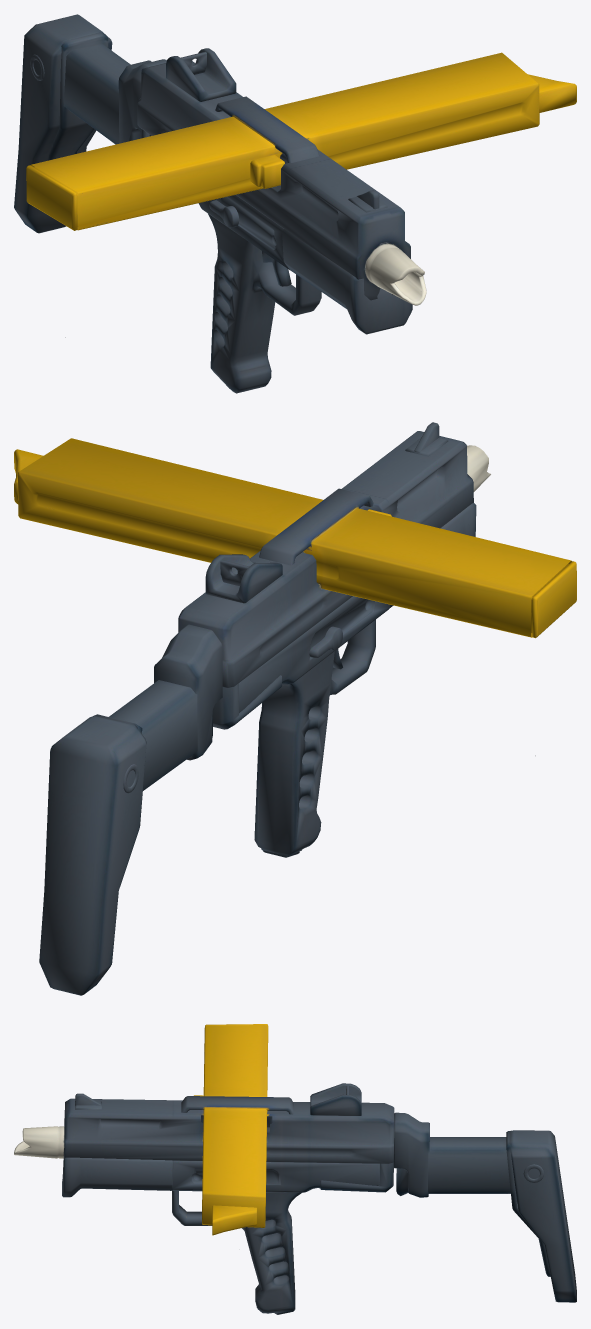
File: wpn_eclair.glb
3 views of the same model, one above another, from view 1: azimuth 30°, elevation 25°; view 2: azimuth 150°, elevation 25°; view 3: azimuth 270°, elevation 25° (orthographic). The views are drawn at different scales.
Visible parts, largest first — view 1: wpn_eclair; view 2: wpn_eclair; view 3: wpn_eclair.
Part boxes in pixels (x1=…): wpn_eclair: x1=14, y1=14, x2=576, y2=393; wpn_eclair: x1=14, y1=422, x2=576, y2=995; wpn_eclair: x1=14, y1=1024, x2=576, y2=1314.
Size of the model in its own units: 0.7817 by 0.4341 by 0.9995.
1 material, 1 textured.
